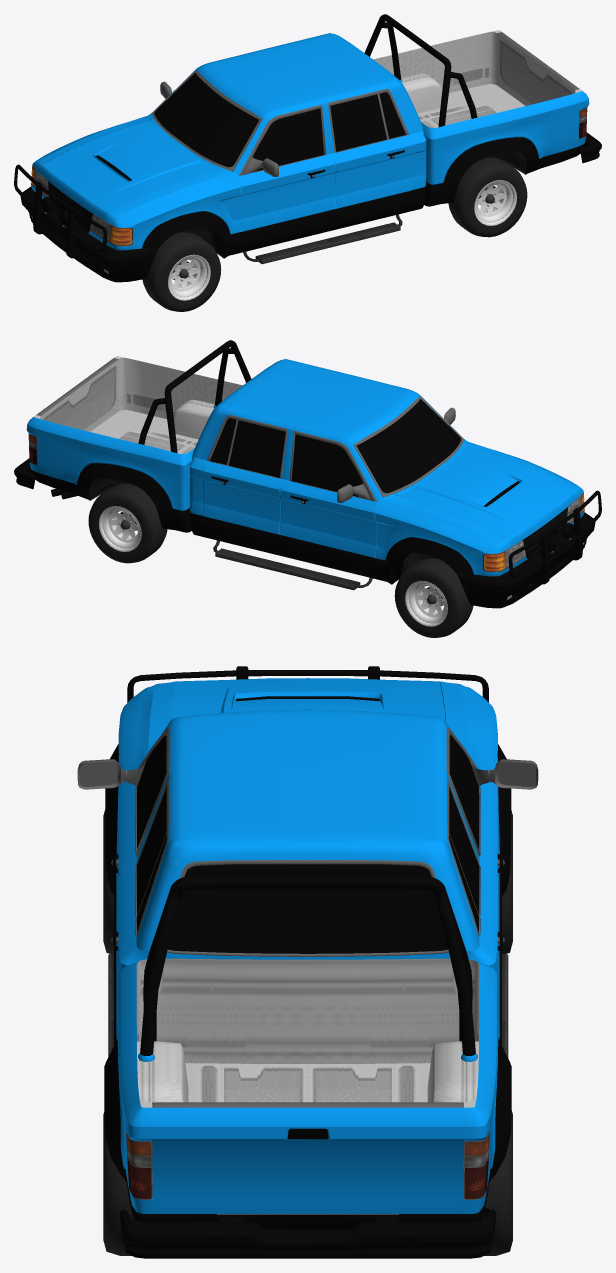
The model's file is hilux.glb.
3 renders of one model, top to bottom at view 1: azimuth 30°, elevation 25°; view 2: azimuth 150°, elevation 25°; view 3: azimuth 270°, elevation 25°, orthographic. The views are drawn at different scales.
Parts seen in each view (by area): view 1: object 1, wheel_02_tiers_0, wheel_01_tiers_0, wheel_02_rims_0, wheel_01_rims_0; view 2: object 1, wheel_03_tiers_0, wheel_04_tiers_0, wheel_03_rims_0, wheel_04_rims_0; view 3: object 1, wheel_02_tiers_0, wheel_03_tiers_0, wheel_01_tiers_0, wheel_04_tiers_0.
Boxes of the visible parts, x1,y1,x2,y2 form: object 1: [14, 14, 601, 282]; wheel_02_tiers_0: [448, 157, 527, 237]; wheel_01_tiers_0: [142, 232, 221, 311]; wheel_02_rims_0: [474, 180, 516, 225]; wheel_01_rims_0: [168, 254, 210, 300]; object 1: [14, 340, 601, 608]; wheel_03_tiers_0: [88, 483, 167, 563]; wheel_04_tiers_0: [394, 558, 473, 637]; wheel_03_rims_0: [99, 506, 141, 551]; wheel_04_rims_0: [405, 580, 447, 626]; object 1: [77, 666, 538, 1258]; wheel_02_tiers_0: [103, 1112, 134, 1255]; wheel_03_tiers_0: [484, 1110, 512, 1255]; wheel_01_tiers_0: [103, 809, 113, 953]; wheel_04_tiers_0: [502, 810, 512, 953].
Size of the model in its own units: 205 by 66.23 by 80.47.
17 materials, 7 textured.
